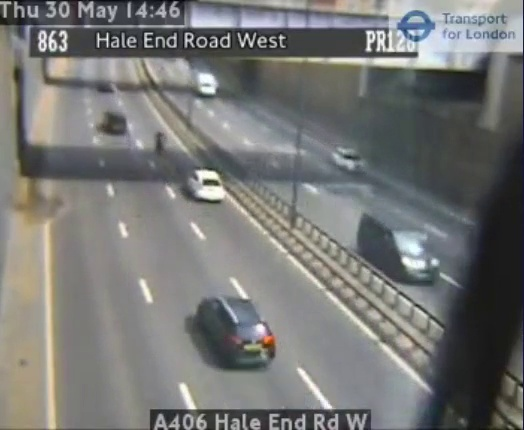car: (200, 296, 275, 365), (188, 170, 224, 199)
